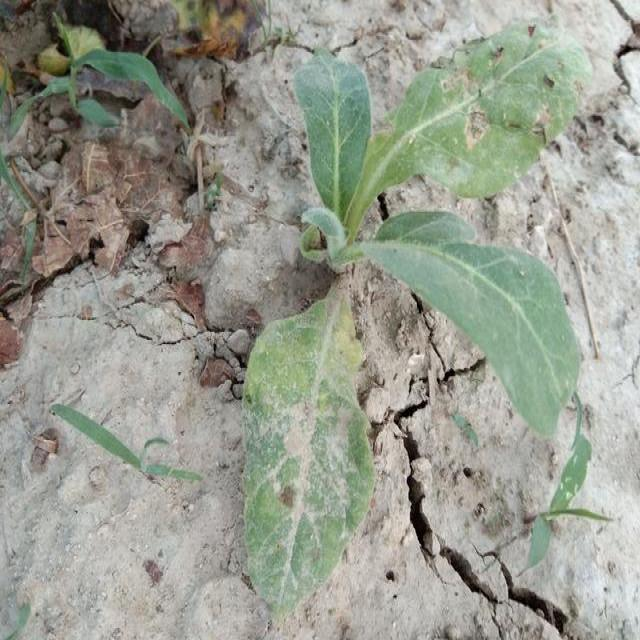crop: (195, 21, 612, 614)
